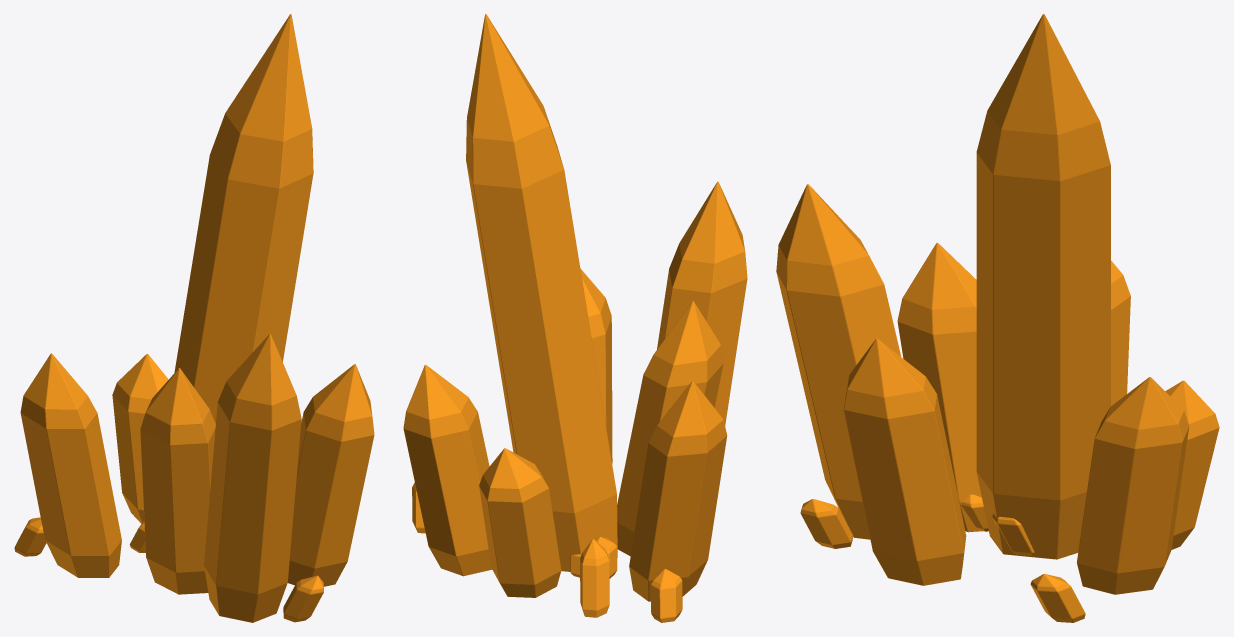
Rendered from amber-crystal.glb.
3 renders of one model, left to right at view 1: azimuth 30°, elevation 25°; view 2: azimuth 150°, elevation 25°; view 3: azimuth 270°, elevation 25°, orthographic. The views are drawn at different scales.
Visible parts, largest first — view 1: amber-crystal; view 2: amber-crystal; view 3: amber-crystal.
Boxes of the visible parts, box(x1,y1,x2,y2) form: amber-crystal: box(14, 14, 374, 622); amber-crystal: box(403, 14, 747, 622); amber-crystal: box(776, 14, 1219, 622).
Bounding box in the file's own units: 1.65 × 2.6 × 1.81.
